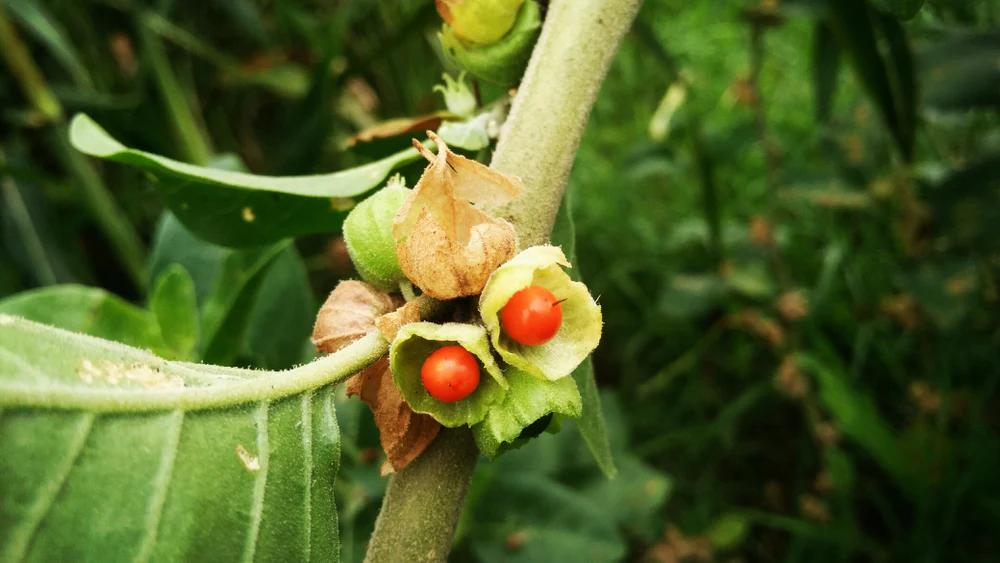healthy_leaf: (57, 34, 726, 563)
